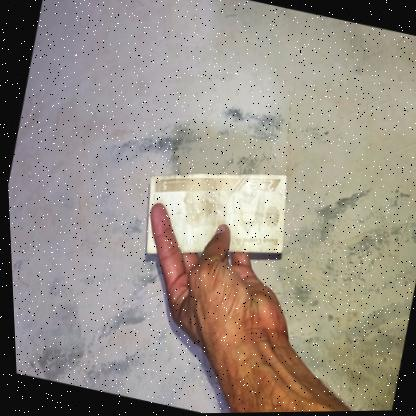vef_back: (131, 146, 298, 284)
